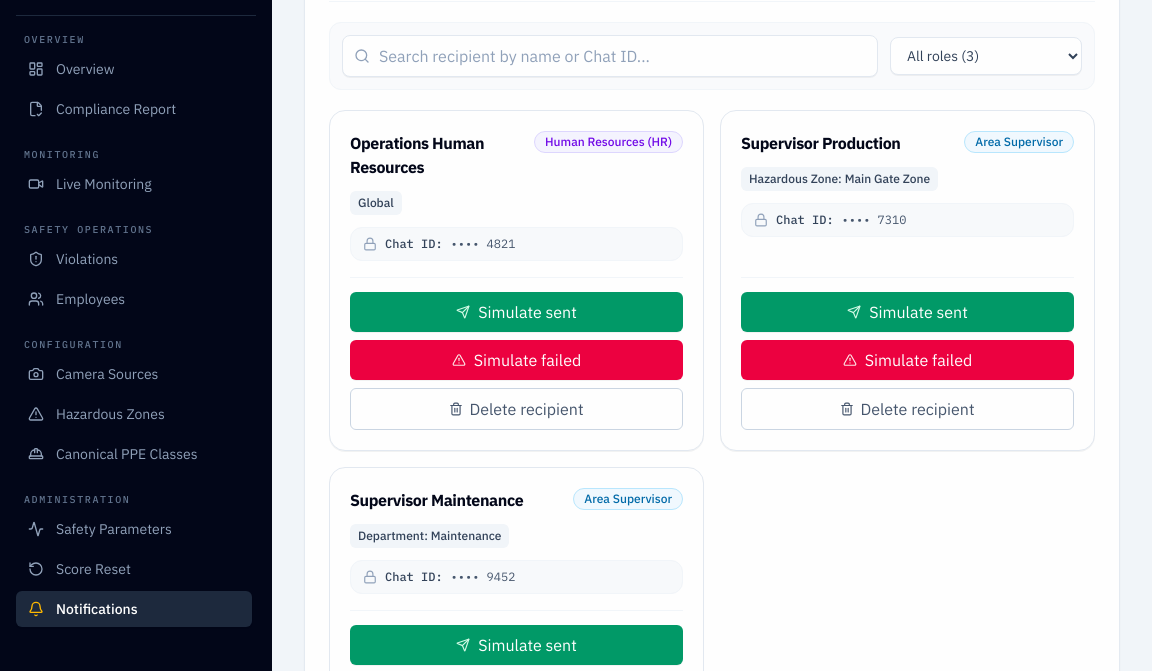
it: Notifications › persists successful and failed deterministic simulations after reload
The width and height of the screenshot is (1152, 671).
(page scrolled)
Click the button "Simulate sent" below "•••• 4821". click: (516, 312)
box: [350,292,683,332]
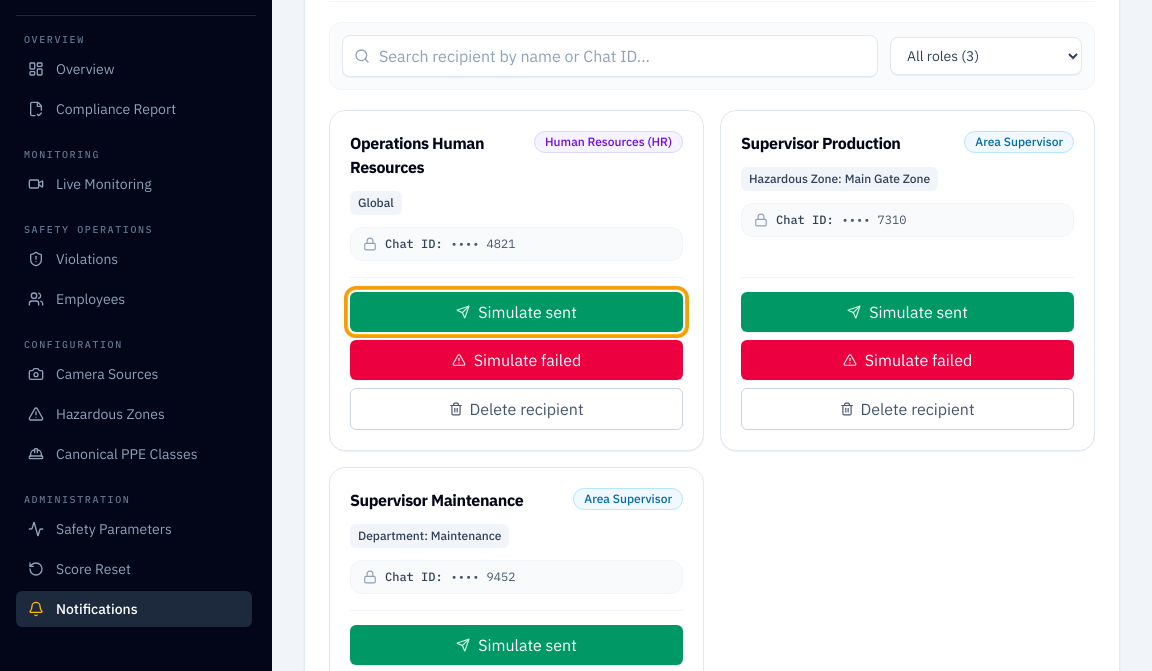
Click the button "Simulate failed" below "•••• 4821". click: (516, 360)
box: [350,340,683,380]
(page scrolled)
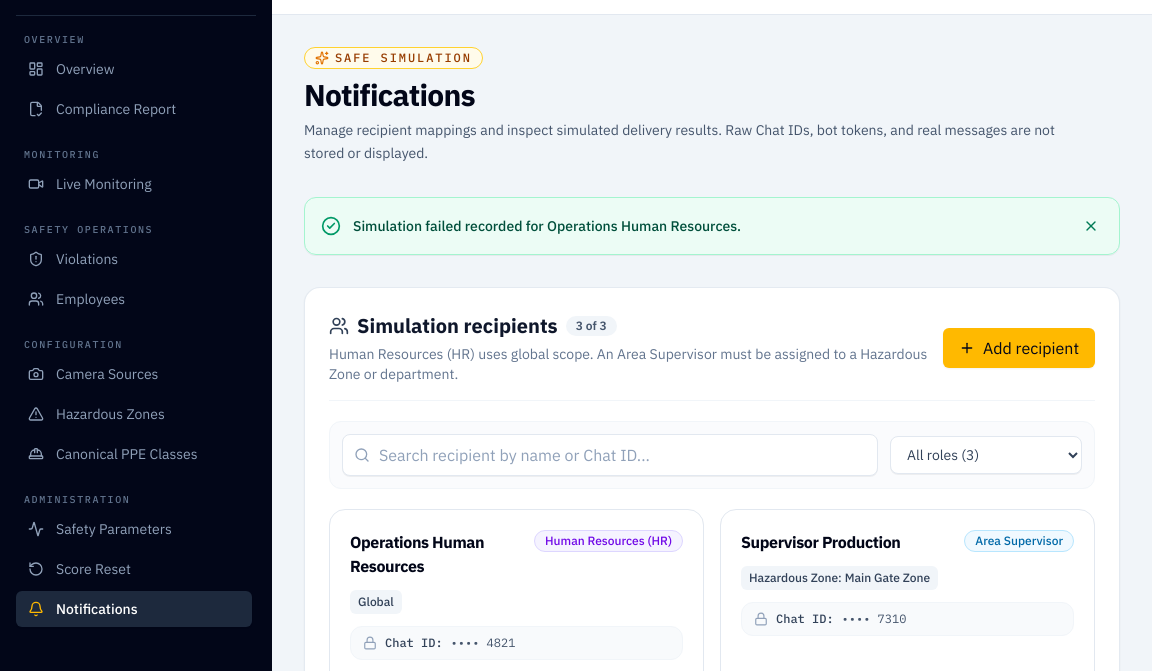
Expected: the message reads "Simulation failed recorded for Operations Human Resources.", [353,216,741,234]
